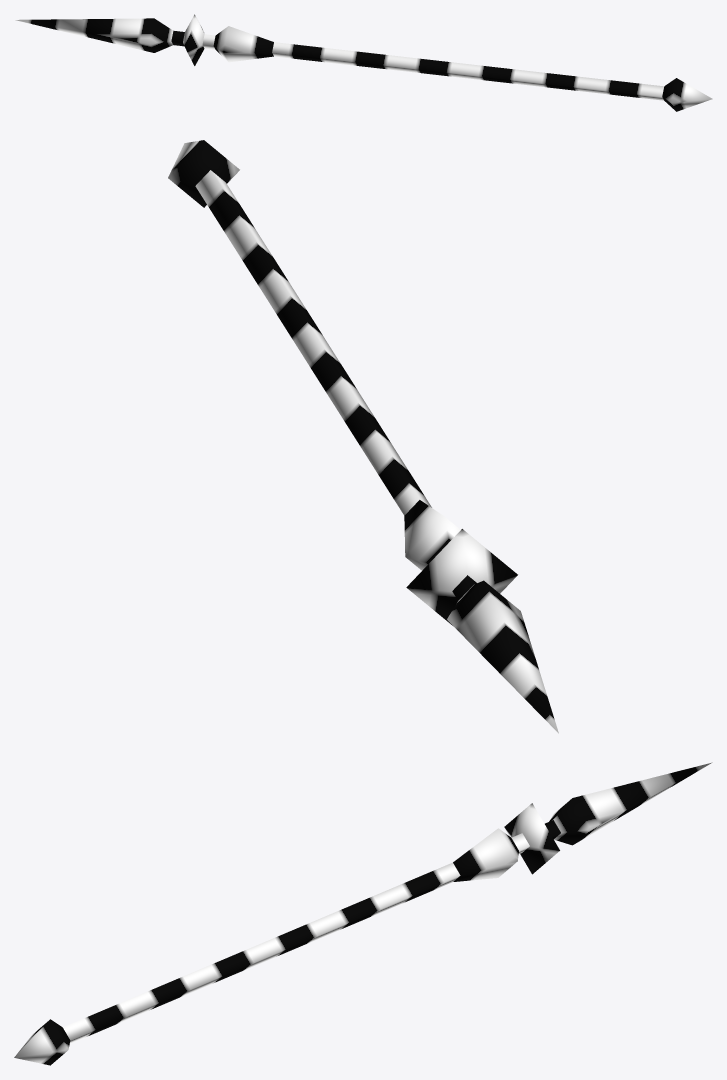
Rendered from initwesp5.dae.
3 renders of one model, top to bottom at view 1: azimuth 30°, elevation 25°; view 2: azimuth 150°, elevation 25°; view 3: azimuth 270°, elevation 25°, orthographic. The views are drawn at different scales.
Parts seen in each view (by area): view 1: weapon; view 2: weapon; view 3: weapon.
Boxes of the visible parts, bbox=[...] form: weapon: bbox=[15, 14, 712, 111]; weapon: bbox=[168, 140, 558, 733]; weapon: bbox=[14, 762, 712, 1065].
Size of the model in its own units: 2.3 by 2.3 by 0.2603.
Materials: 1 (1 with a texture image).
